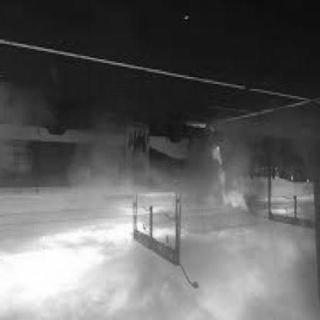Fire: (222, 190, 250, 218), (187, 119, 210, 137)
Smoke: (183, 166, 211, 208)
